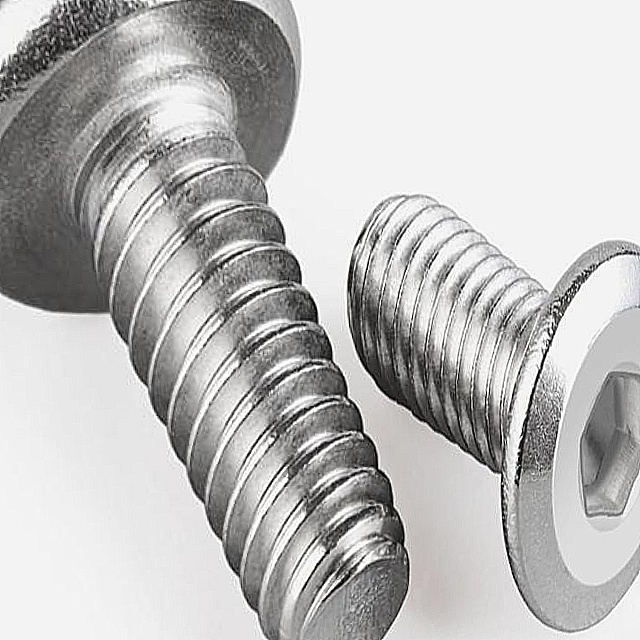allen: (577, 364, 640, 526)
